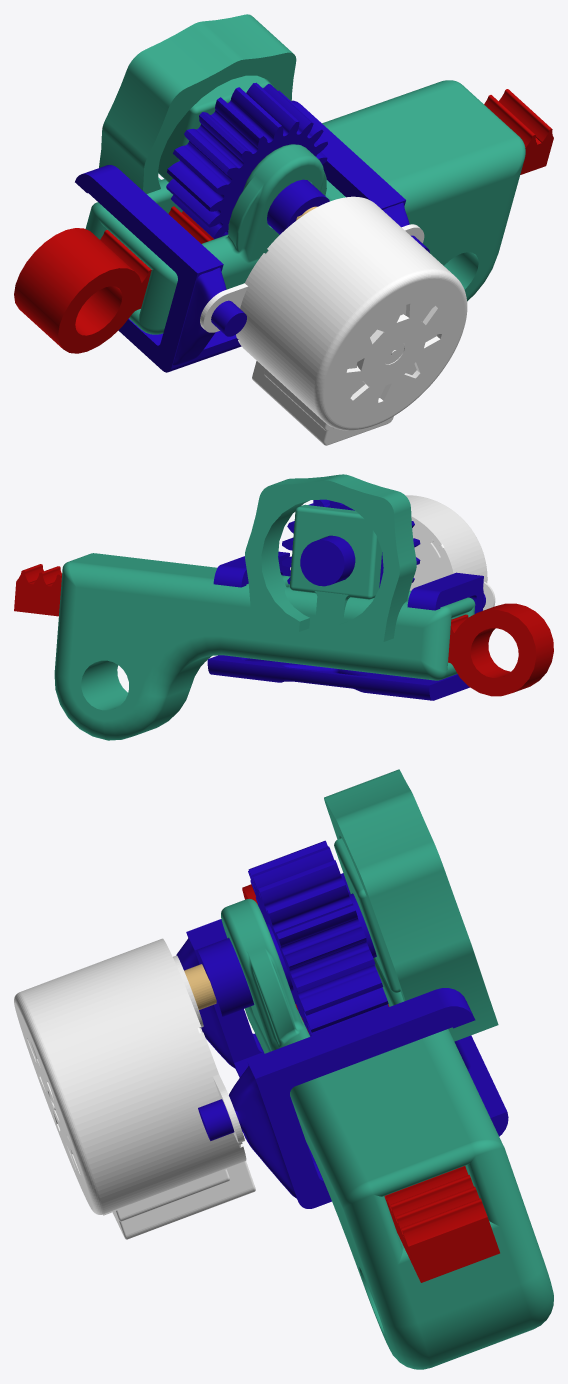
The model's file is servo_axis.glb.
3 renders of one model, top to bottom at view 1: azimuth 30°, elevation 25°; view 2: azimuth 150°, elevation 25°; view 3: azimuth 270°, elevation 25°, orthographic. The views are drawn at different scales.
Visible parts, largest first — view 1: Object_6, Object_3, Object_7, Object_4; view 2: Object_6, Object_7, Object_4, Object_3; view 3: Object_6, Object_3, Object_7, Object_4, Object_2.
Part boxes in pixels (bbox=[...]): Object_6: bbox=[85, 14, 525, 334]; Object_3: bbox=[200, 196, 467, 445]; Object_7: bbox=[75, 82, 429, 372]; Object_4: bbox=[14, 89, 553, 353]; Object_6: bbox=[54, 474, 475, 740]; Object_7: bbox=[207, 499, 485, 700]; Object_4: bbox=[14, 564, 553, 696]; Object_3: bbox=[289, 495, 495, 610]; Object_6: bbox=[221, 769, 553, 1369]; Object_3: bbox=[14, 938, 255, 1239]; Object_7: bbox=[176, 840, 508, 1208]; Object_4: bbox=[242, 884, 499, 1282]; Object_2: bbox=[184, 964, 216, 1009].
Size of the model in its own units: 1 by 0.5944 by 0.6763.
